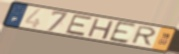4: (23, 8, 42, 29)
7: (47, 9, 71, 33)
E: (108, 20, 139, 45), (64, 13, 94, 37)
H: (86, 17, 116, 41)
R: (129, 25, 158, 47)
